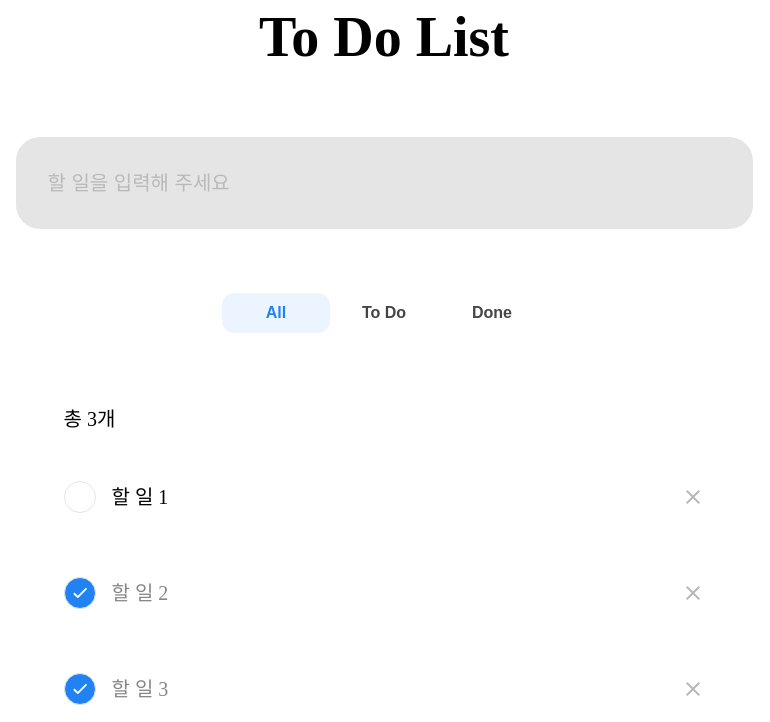
TodoUserListPage › Filter Todo
Expected: the text with test id "todo-list-header" reads "총 3개", [64,408,115,430]
Click the button with test id "active-tab": {"x": 384, "y": 313} [330,293,438,333]
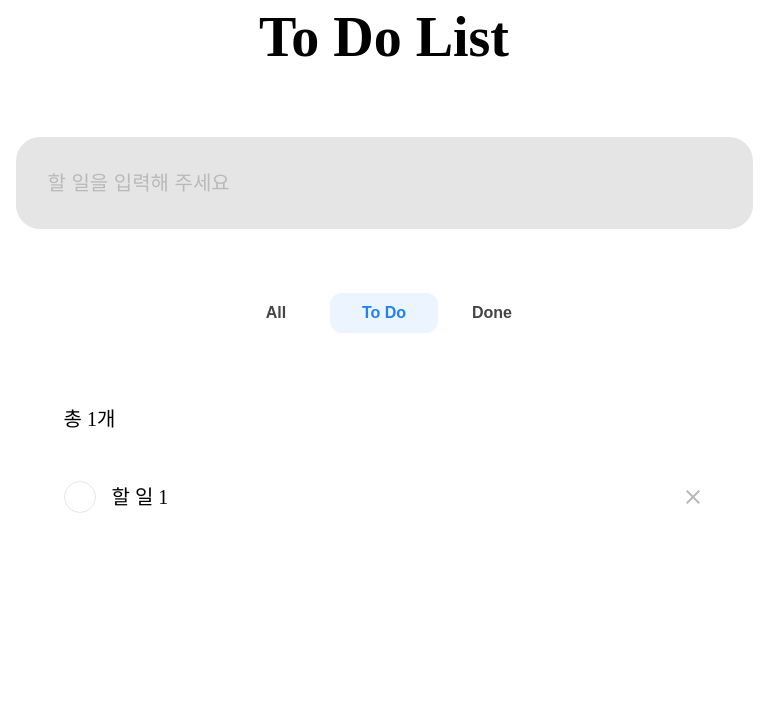
Expected: the text with test id "todo-list-header" reads "총 1개", [64,408,115,430]
Click the button with test id "completed-tab": {"x": 492, "y": 313} [438,293,546,333]
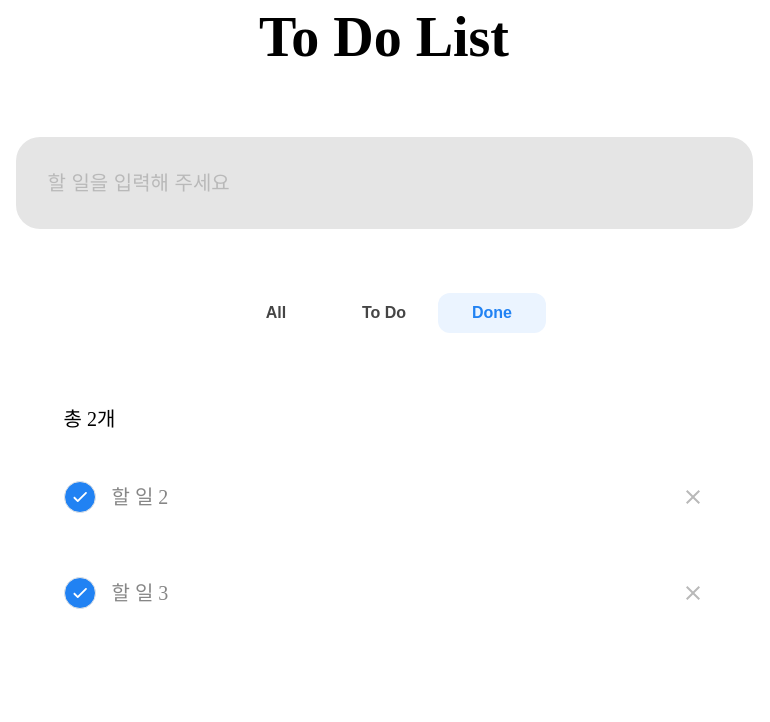
Expected: the text with test id "todo-list-header" reads "총 2개", [64,408,115,430]
Click the button with test id "all-tab": {"x": 276, "y": 313} [222,293,330,333]
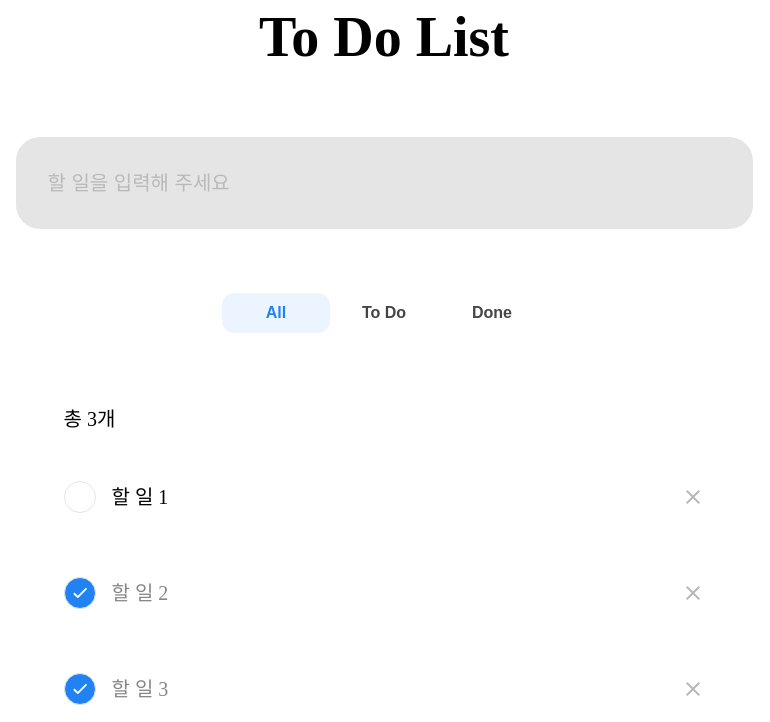
Expected: the text with test id "todo-list-header" reads "총 3개", [64,408,115,430]
